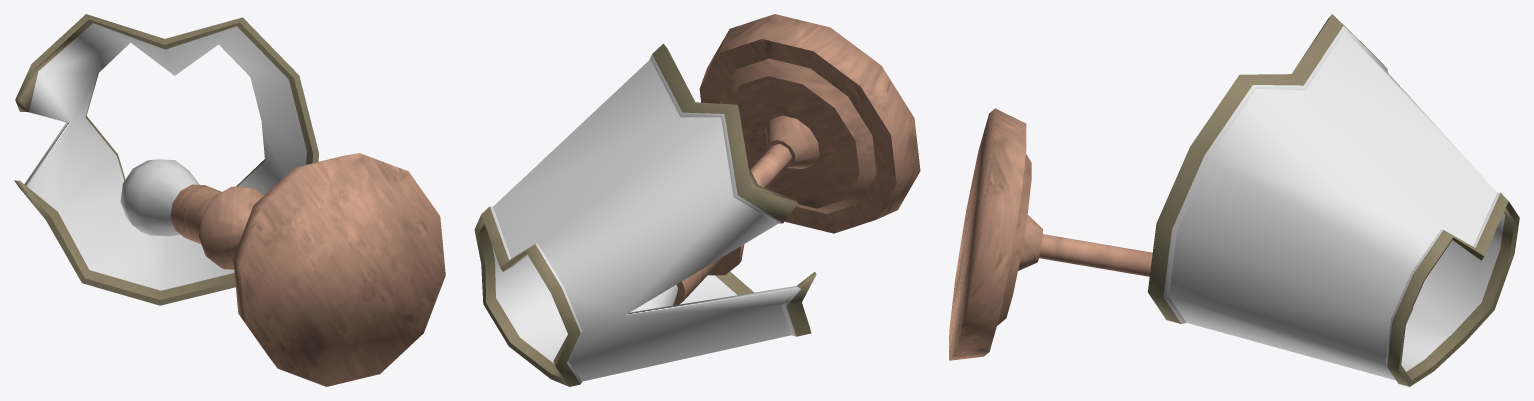
File: Lamp_broken.fbx
3 views of the same model, side by side, from view 1: azimuth 30°, elevation 25°; view 2: azimuth 150°, elevation 25°; view 3: azimuth 270°, elevation 25° (orthographic). The views are drawn at different scales.
Visible parts, largest first — view 1: Lamp_broken; view 2: Lamp_broken; view 3: Lamp_broken.
Boxes of the visible parts, left/top/right/bottom form: Lamp_broken: left=14, top=14, right=445, bottom=386; Lamp_broken: left=474, top=14, right=920, bottom=386; Lamp_broken: left=949, top=14, right=1519, bottom=386.
Size of the model in its own units: 169 by 147 by 266.
